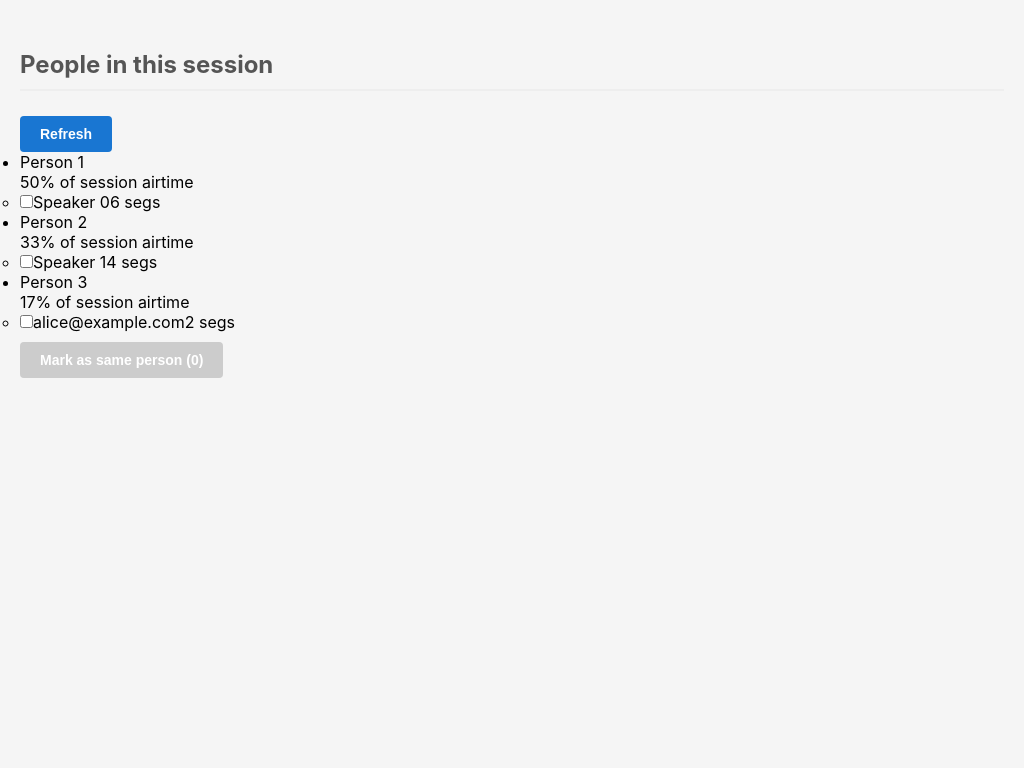
Scenario: PeoplePanel › Merge happy path: pick two labels → name + confirm → POSTs both with the same canonical
The width and height of the screenshot is (1024, 768).
Expected: the list with test id "people-panel-groups" is shown, 20,152 -> 235,332
Click the checkbox with test id "people-label-checkbox-Speaker 0": (26, 202) 20,195 -> 33,208
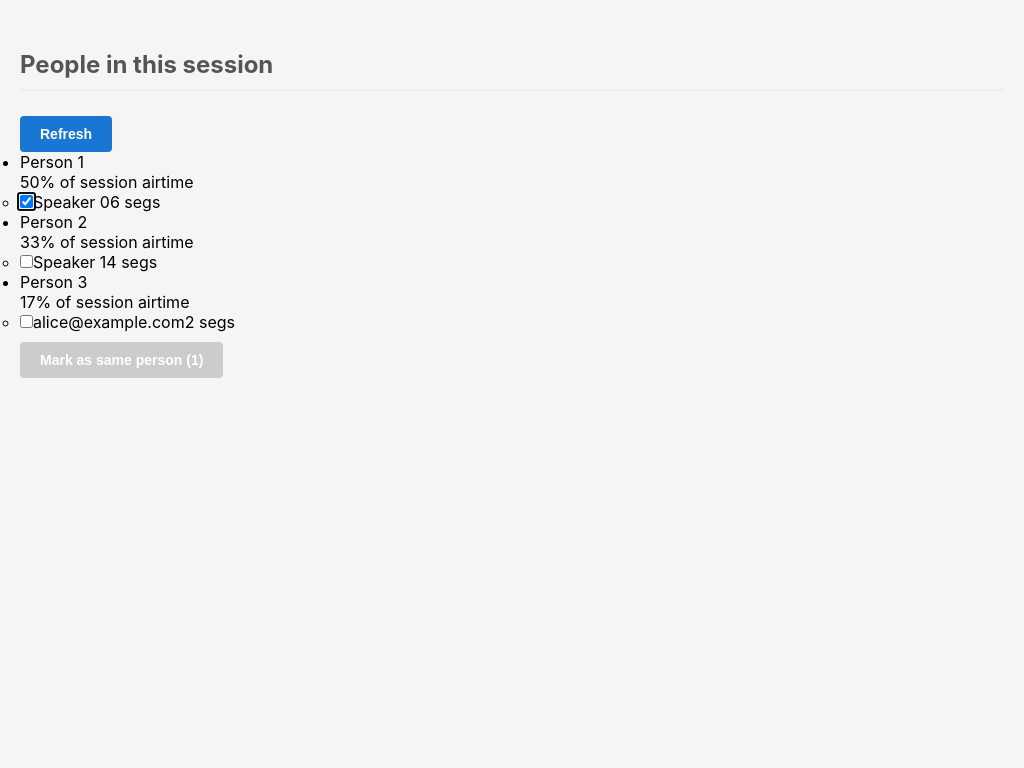
Click the checkbox with test id "people-label-checkbox-alice@example.com": (26, 322) 20,315 -> 33,328
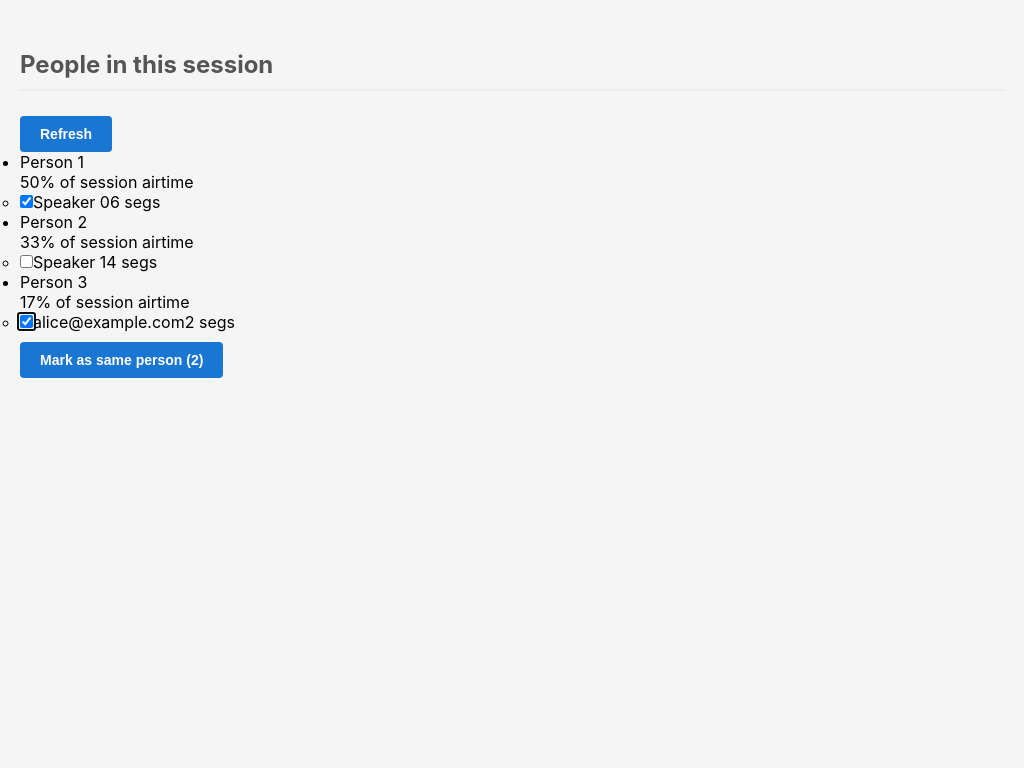
Expected: the button with test id "people-panel-merge" shows "(2)"
Click the button with test id "people-panel-merge": (122, 360) 20,342 -> 223,378
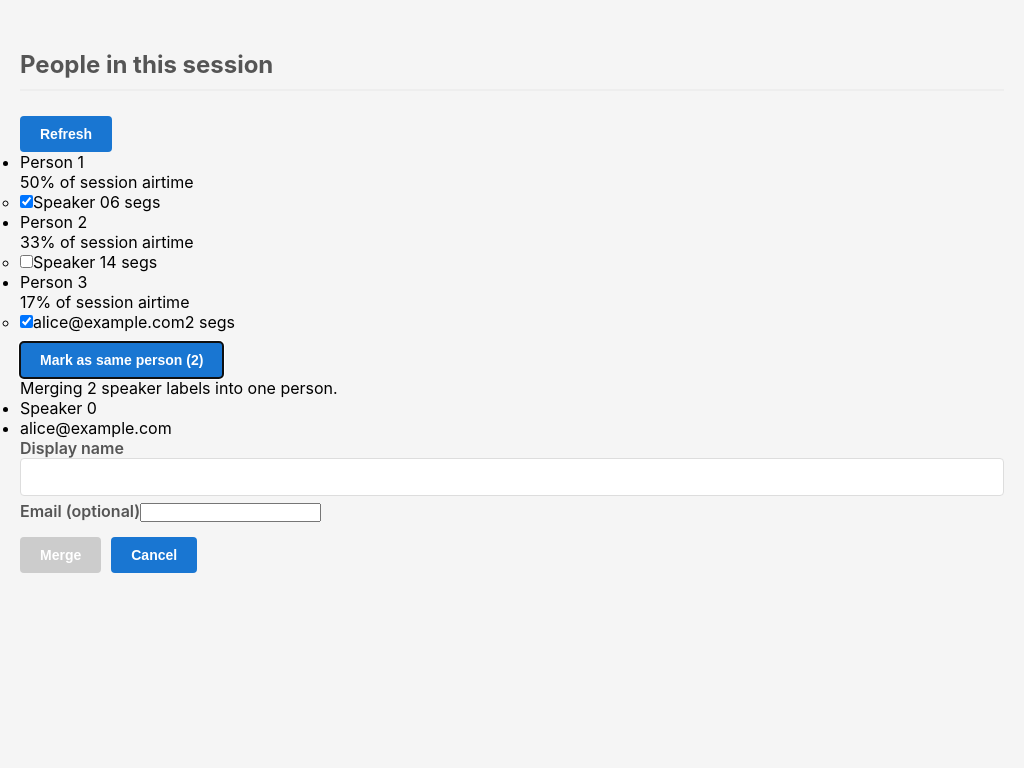
Expected: the dialog with test id "people-merge-confirm" is shown, 20,378 -> 1004,573
In the field with test id "people-merge-display-name": (512, 477) 20,458 -> 1004,496, type "Alice"
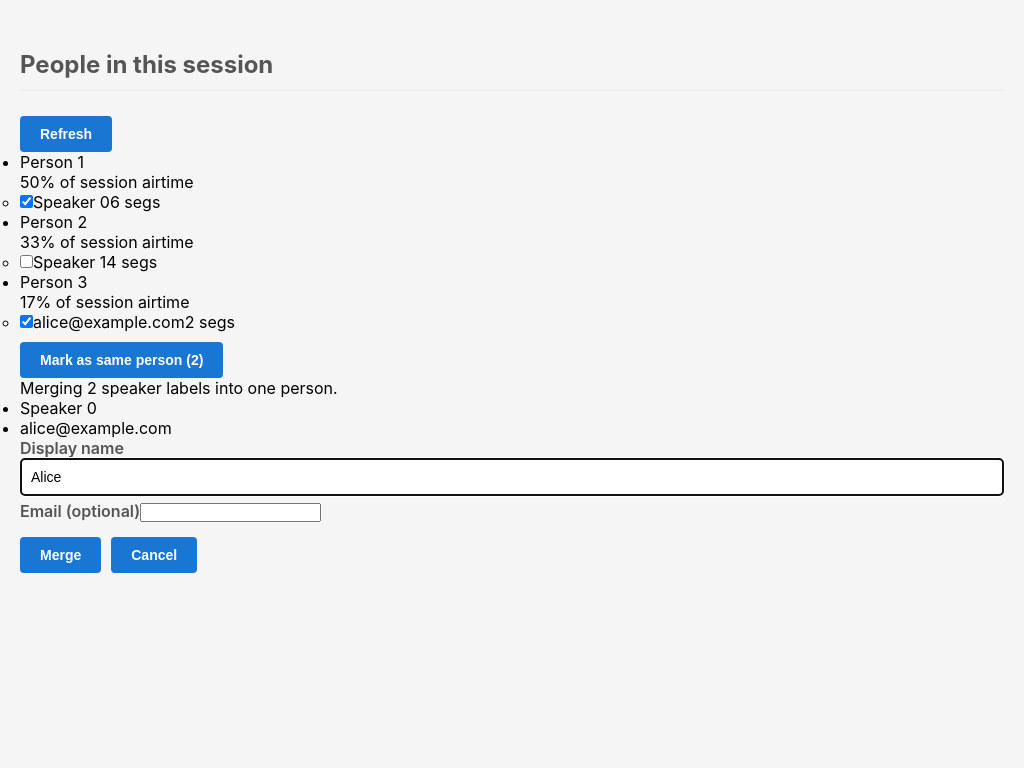
In the field with test id "people-merge-email": (231, 512) 140,503 -> 321,522, type "alice@example.com"
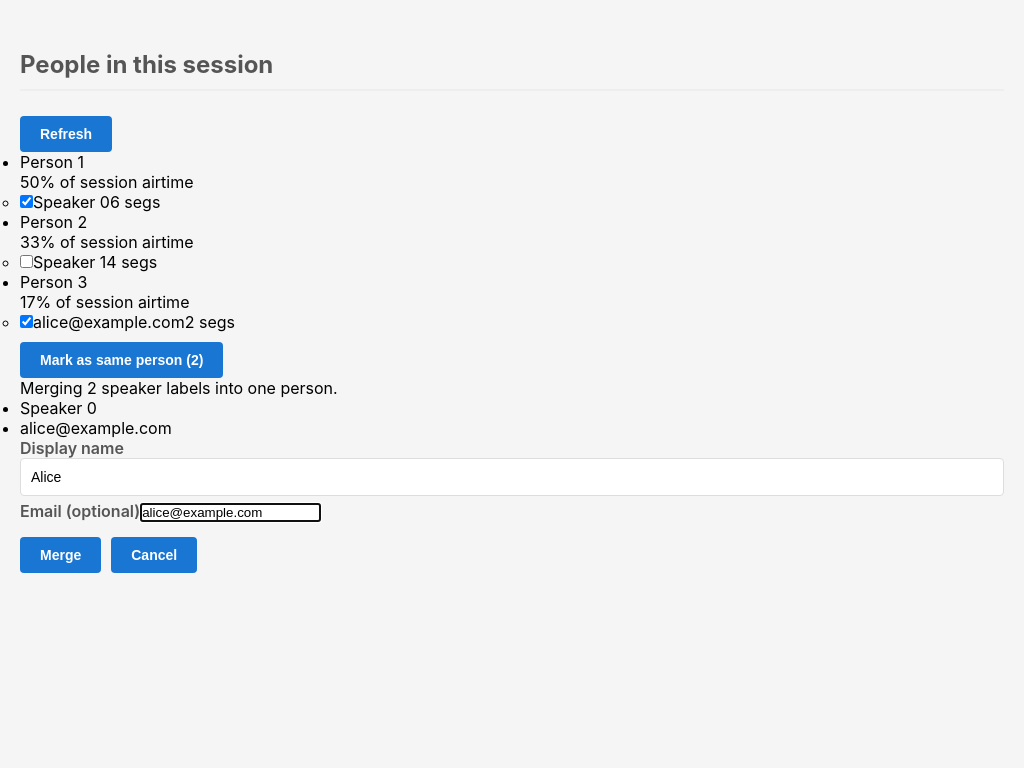
Click the button with test id "people-merge-submit": (61, 555) 20,537 -> 101,573
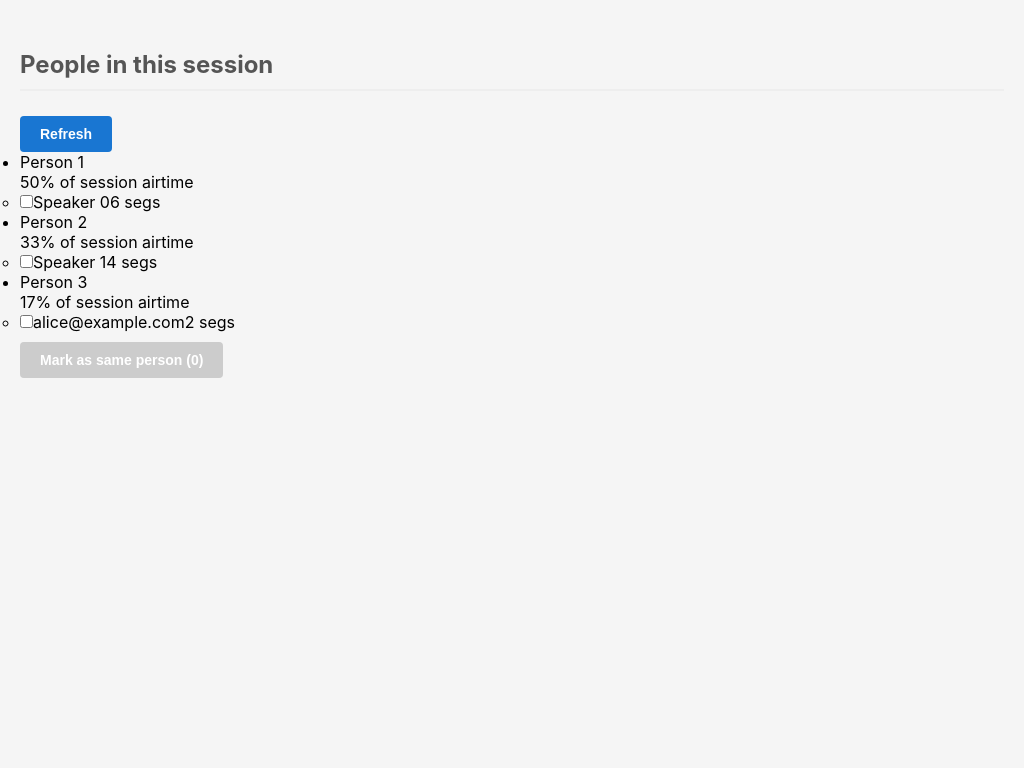
Expected: the text "alice@example.com" is shown, 33,312 -> 185,332
Expected: the dialog with test id "people-merge-confirm" is gone
